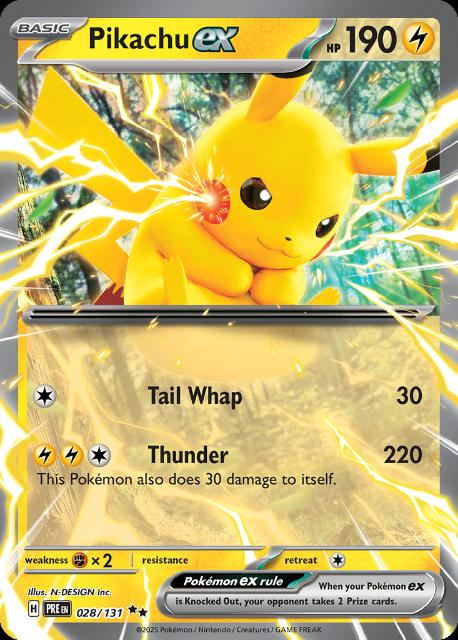Card: (0, 0, 458, 640)
Name: (85, 20, 248, 58)
